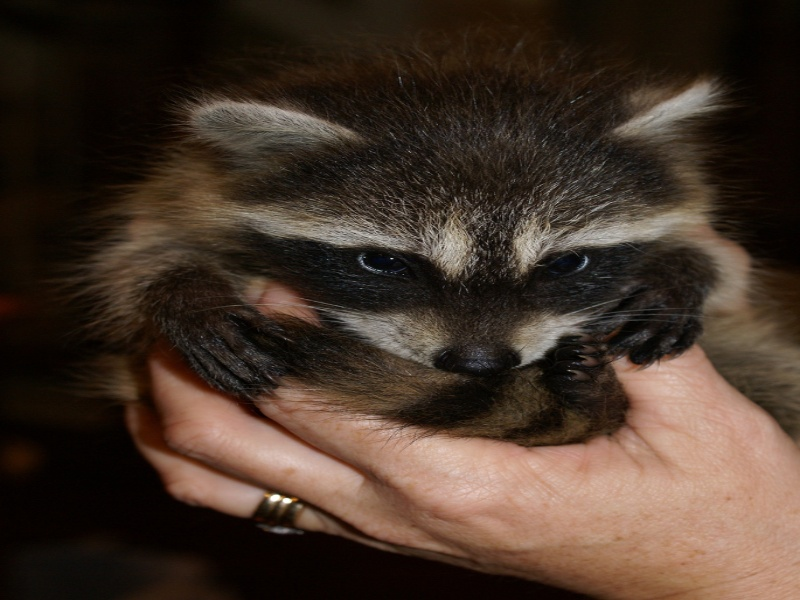raccoon: (91, 28, 761, 462)
